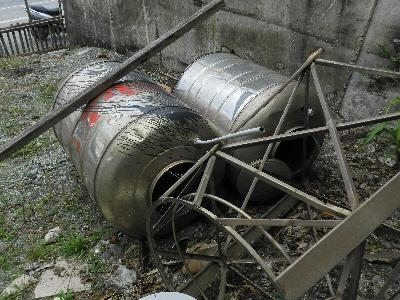water_tower: (48, 59, 226, 243), (170, 50, 330, 205)
